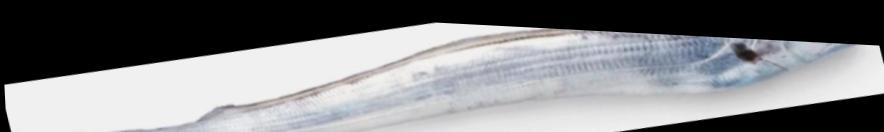fish: (106, 23, 854, 132)
